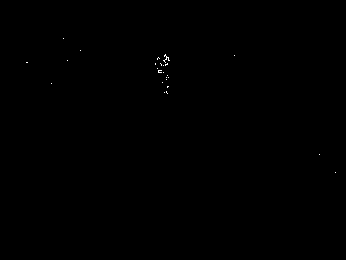person: (154, 54, 171, 96)
